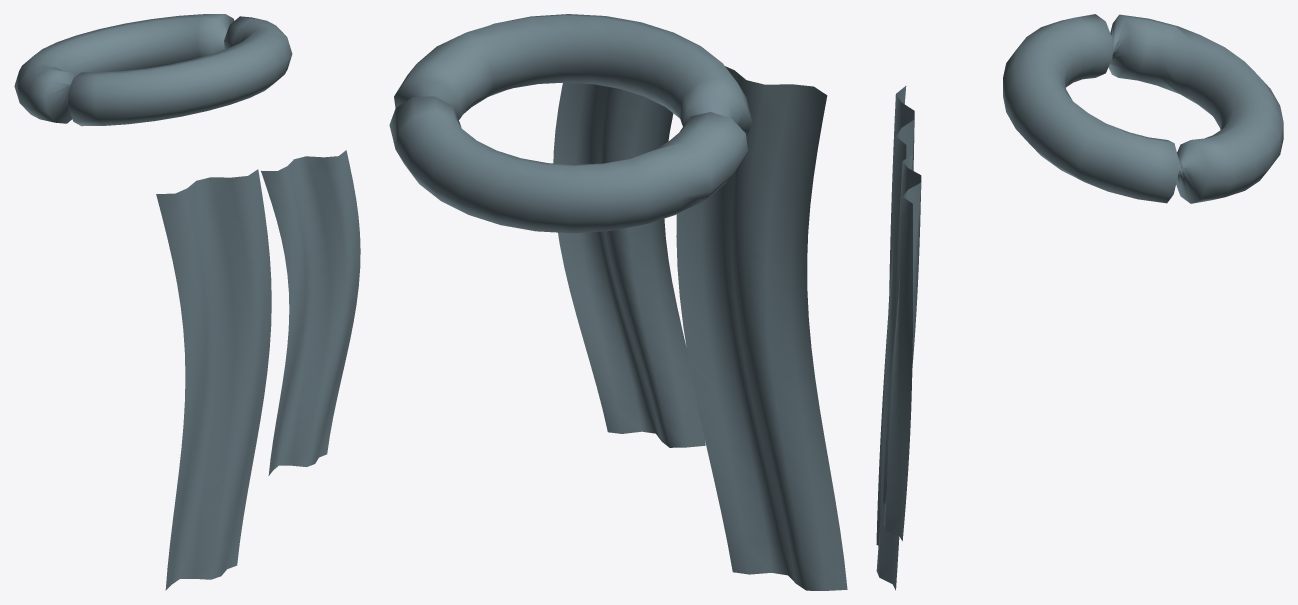
File: scarf.glb
3 renders of one model, left to right at view 1: azimuth 30°, elevation 25°; view 2: azimuth 150°, elevation 25°; view 3: azimuth 270°, elevation 25°, orthographic. The views are drawn at different scales.
Parts seen in each view (by area): view 1: ScarfTailLeft, ScarfCollar, ScarfTailRight; view 2: ScarfTailLeft, ScarfCollar, ScarfTailRight; view 3: ScarfCollar, ScarfTailRight, ScarfTailLeft.
Boxes of the visible parts, bbox=[...] form: ScarfTailLeft: bbox=[156, 169, 271, 590]; ScarfCollar: bbox=[14, 14, 292, 126]; ScarfTailRight: bbox=[261, 150, 360, 475]; ScarfTailLeft: bbox=[676, 66, 847, 590]; ScarfCollar: bbox=[389, 14, 752, 233]; ScarfTailRight: bbox=[553, 82, 705, 447]; ScarfCollar: bbox=[1003, 14, 1283, 203]; ScarfTailRight: bbox=[883, 154, 921, 541]; ScarfTailLeft: bbox=[876, 86, 914, 590].
Bounding box in the file's own units: 0.2557 × 0.449 × 0.3041.
